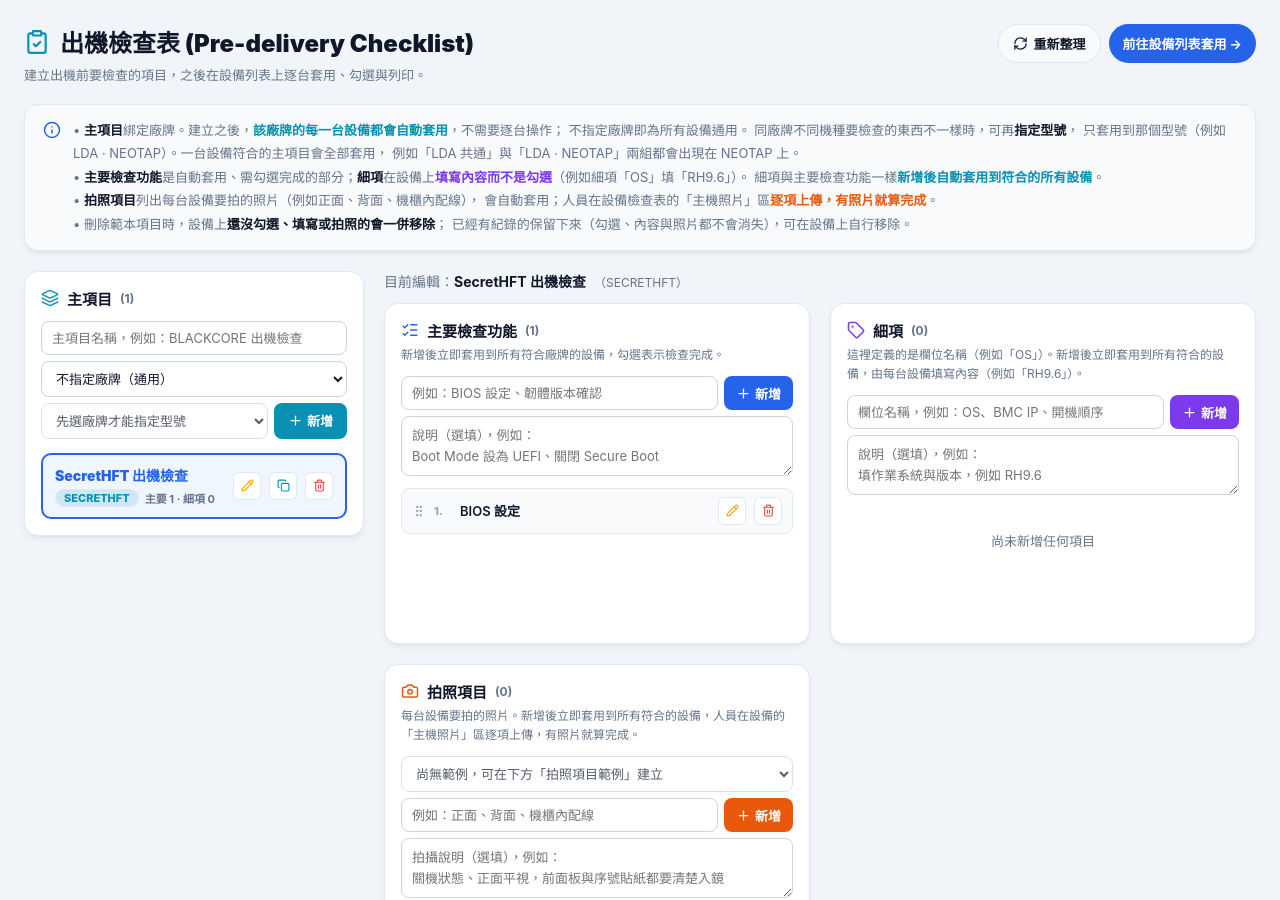
it: 範本維護頁的拍照項目 › 新增拍照項目後立刻套用到符合的設備
expect the heading "拍照項目" is shown: met, box [427,681,487,702]
左側主項目自動選好之前，輸入框是停用的
Step 1. Type "正面" into the field named "拍照項目名稱" → (560, 815), box [401,798,718,832]
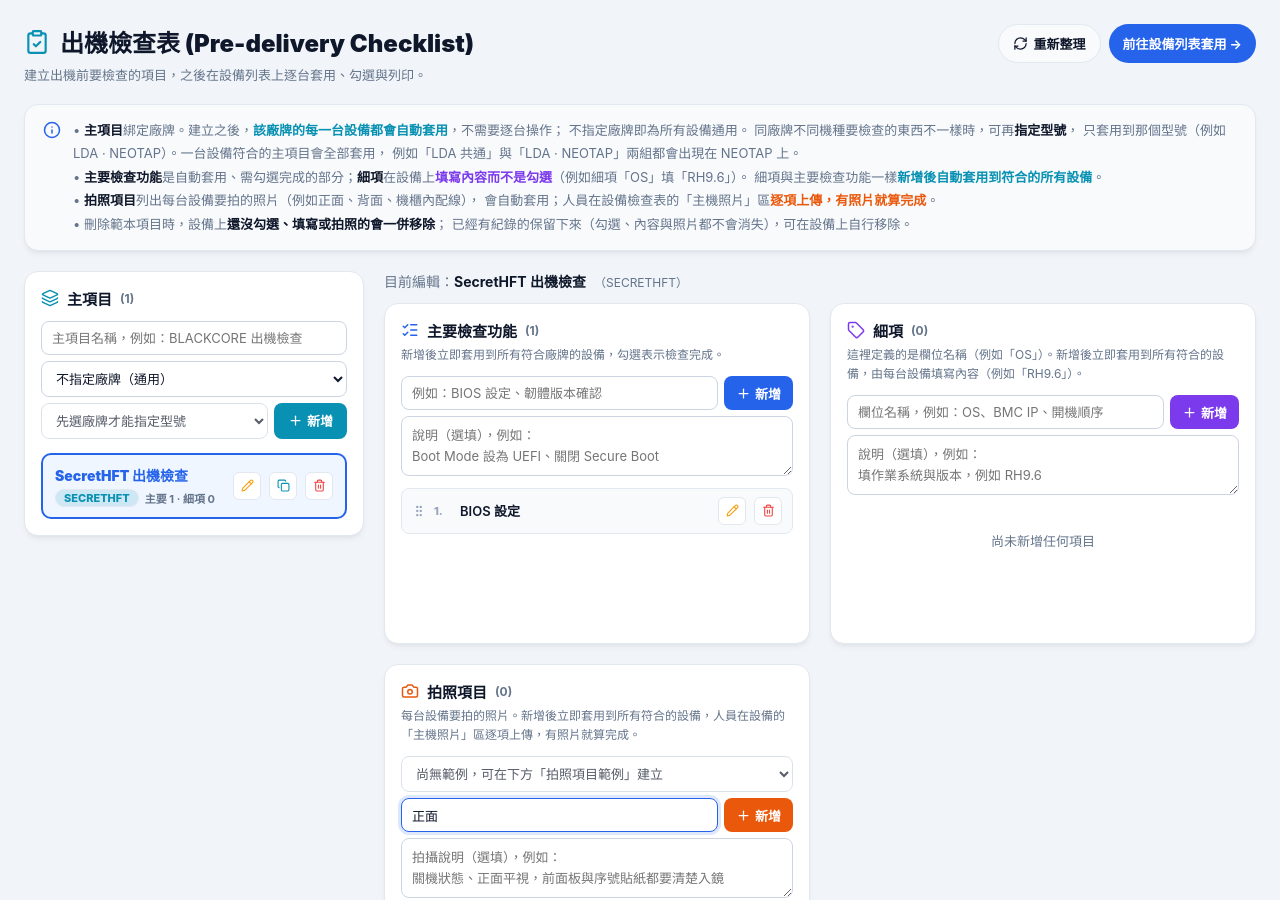
Step 2. Click the button with aria-label "新增拍照項目" → (758, 815), box [724,798,793,832]
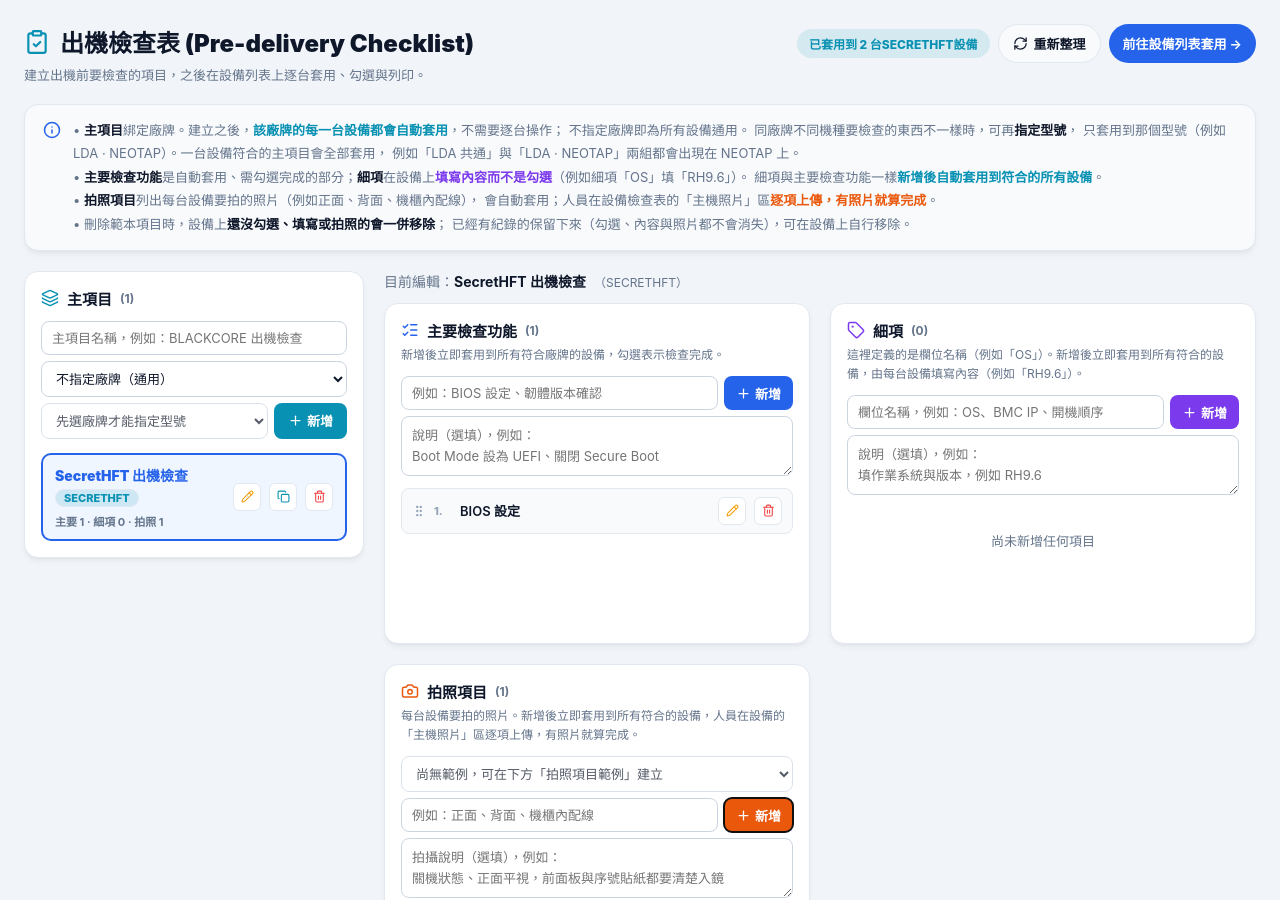
expect the text "主要 1 · 細項 0 · 拍照 1" is shown: met, box [55,513,164,529]
